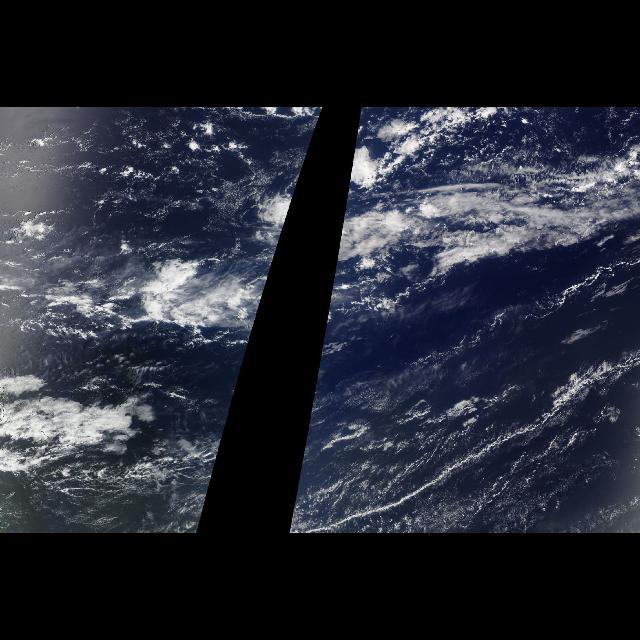Sugar: (313, 279, 639, 533), (1, 107, 285, 257)
